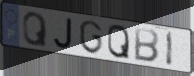B: (133, 26, 161, 64)
G: (78, 19, 104, 56)
I: (165, 30, 175, 69)
J: (52, 18, 74, 51)
Q: (22, 11, 49, 49), (106, 24, 131, 61)
